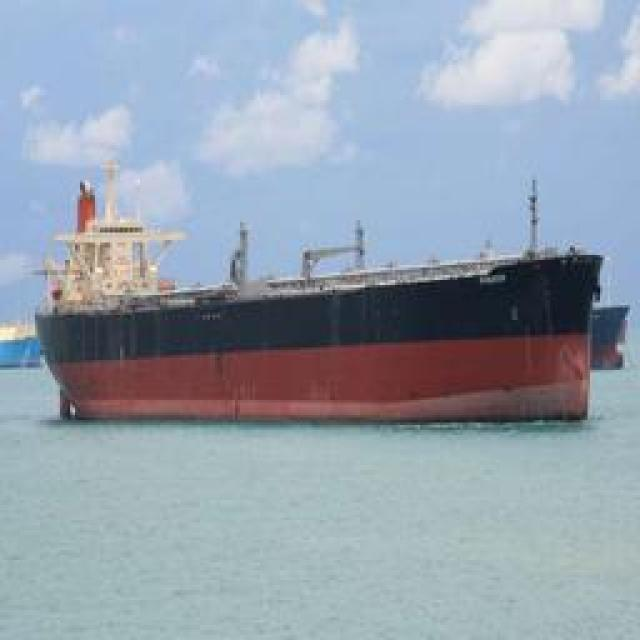ship2: (33, 177, 606, 427)
